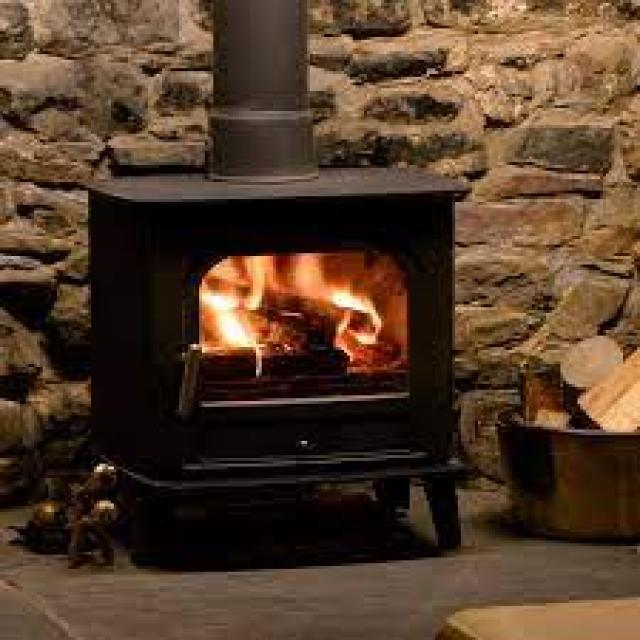Fire: (204, 268, 396, 360)
